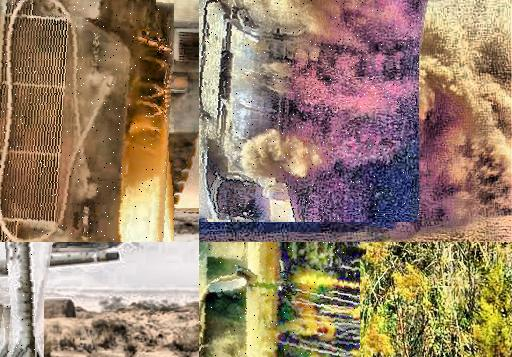tanks: (200, 1, 420, 222), (1, 1, 174, 243), (200, 243, 361, 357), (8, 243, 36, 357), (1, 305, 39, 357)
